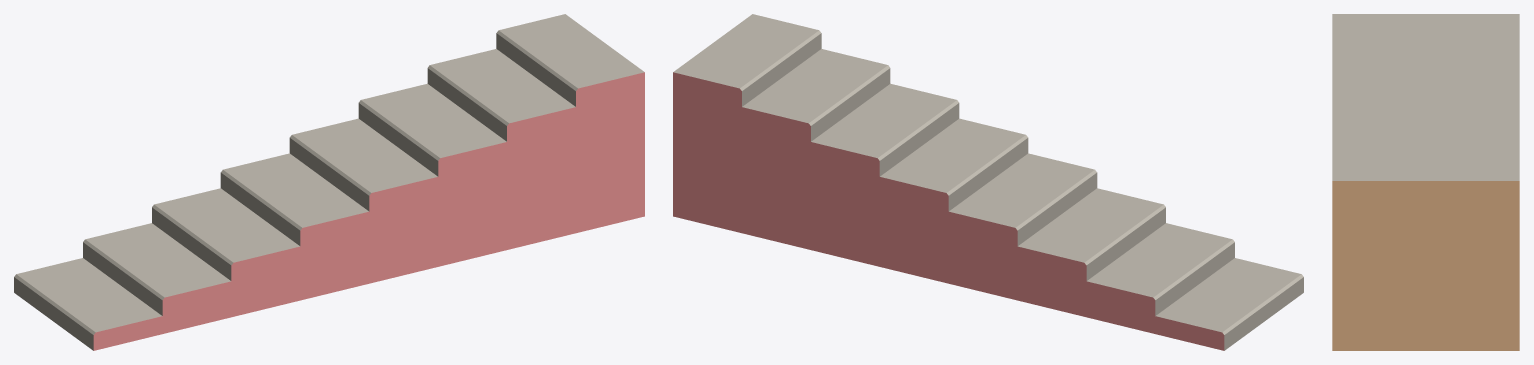
Rendered from Tiered_Walkway_Steps_Straight_1x4.glb.
The picture shows the model from 3 angles, left to right: view 1: azimuth 30°, elevation 25°; view 2: azimuth 150°, elevation 25°; view 3: azimuth 270°, elevation 25°; orthographic projection. The views are drawn at different scales.
Parts seen in each view (by area): view 1: Tiered_Walkway_Steps_Straight_1x4; view 2: Tiered_Walkway_Steps_Straight_1x4; view 3: Tiered_Walkway_Steps_Straight_1x4.
Part boxes in pixels (x1=…): Tiered_Walkway_Steps_Straight_1x4: x1=14, y1=14, x2=644, y2=350; Tiered_Walkway_Steps_Straight_1x4: x1=673, y1=14, x2=1303, y2=350; Tiered_Walkway_Steps_Straight_1x4: x1=1332, y1=14, x2=1519, y2=350.
Bounding box in the file's own units: 400 × 100 × 100.
